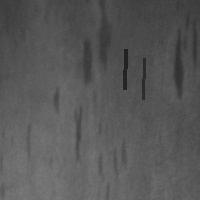inclusion: (167, 24, 190, 106), (92, 139, 134, 181), (92, 1, 116, 73), (67, 102, 90, 165), (73, 36, 95, 87), (19, 117, 39, 167), (45, 83, 67, 119), (141, 56, 146, 101), (122, 47, 127, 91)
